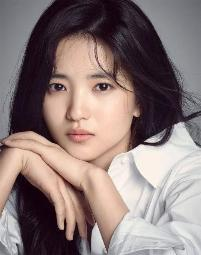face: (46, 37, 130, 156)
